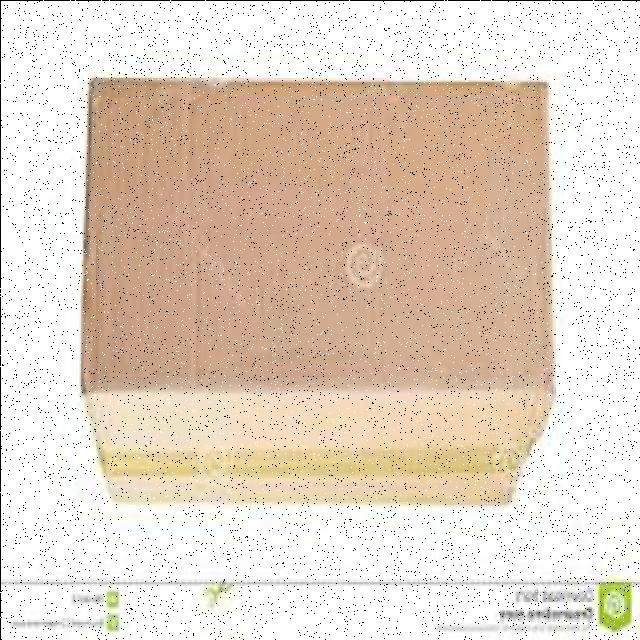normal: (76, 69, 558, 509)
